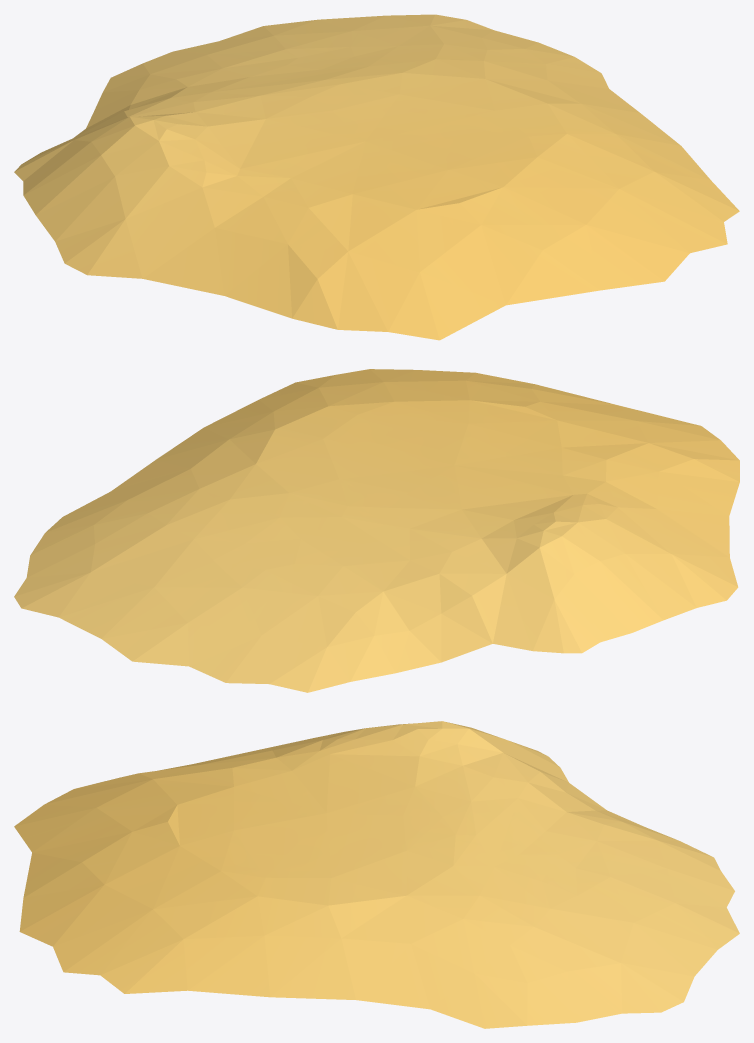
File: bornIsland.glb
The picture shows the model from 3 angles, top to bottom: view 1: azimuth 30°, elevation 25°; view 2: azimuth 150°, elevation 25°; view 3: azimuth 270°, elevation 25°; orthographic projection. The views are drawn at different scales.
Visible parts, largest first — view 1: bornIsland; view 2: bornIsland; view 3: bornIsland.
Part boxes in pixels (x1=…): bornIsland: x1=14, y1=14, x2=739, y2=340; bornIsland: x1=14, y1=369, x2=739, y2=692; bornIsland: x1=14, y1=721, x2=739, y2=1028.
Bounding box in the file's own units: 15.59 × 2.16 × 16.84.
1 material, 1 textured.
